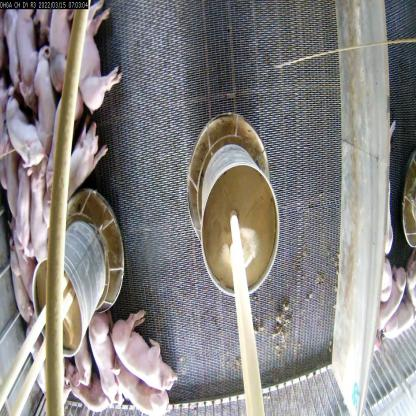Pig: (107, 272, 177, 396), (66, 11, 124, 98), (30, 47, 70, 156), (30, 324, 77, 415), (84, 311, 124, 415), (57, 119, 104, 203), (25, 157, 57, 279), (1, 89, 43, 170), (110, 359, 170, 415), (43, 11, 76, 94), (6, 246, 31, 344), (13, 178, 42, 256), (13, 1, 36, 91)
